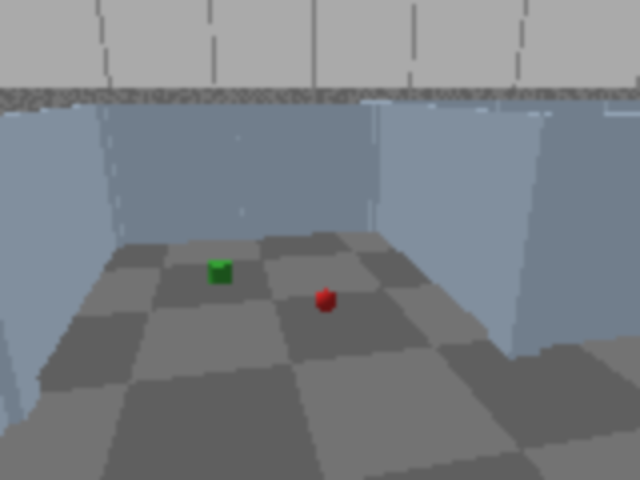puck: (313, 286, 339, 317), (209, 259, 232, 285)
